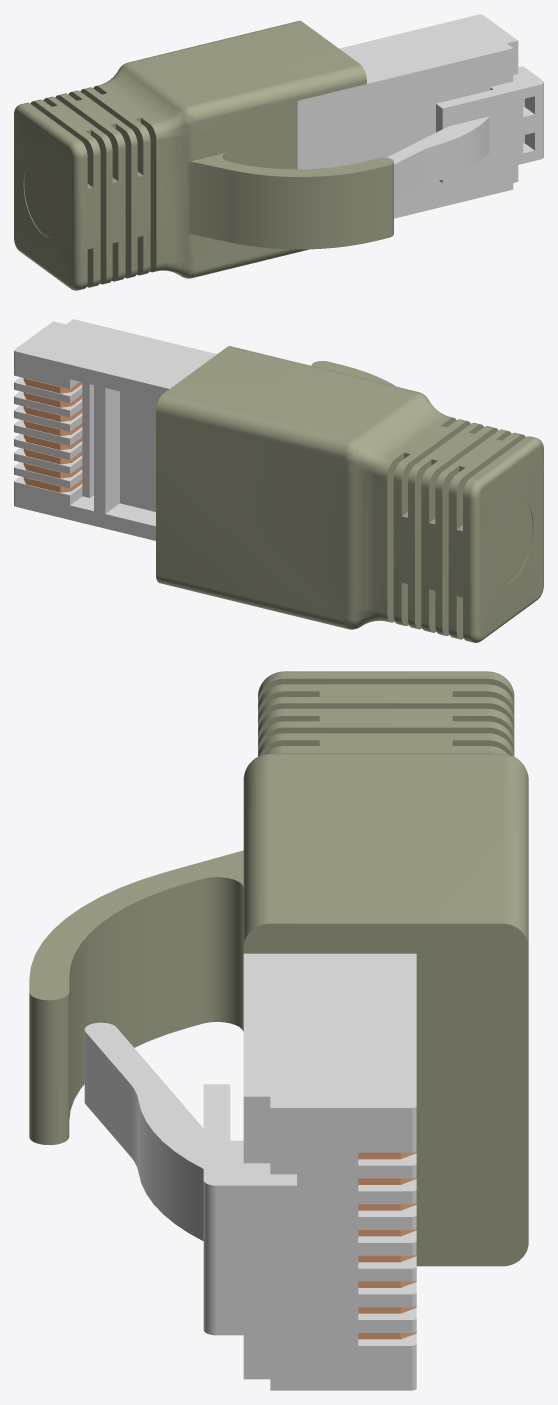
File: ethernet.fbx
The picture shows the model from 3 angles, top to bottom: view 1: azimuth 30°, elevation 25°; view 2: azimuth 150°, elevation 25°; view 3: azimuth 270°, elevation 25°; orthographic projection. The views are drawn at different scales.
Visible parts, largest first — view 1: Extruded.010, Extruded.012, Extruded.009; view 2: Extruded.010, Extruded.012, Extruded.009; view 3: Extruded.010, Extruded.012.
Part boxes in pixels (x1,y1,x2,y2): Extruded.010: [14, 20, 393, 290]; Extruded.012: [297, 14, 543, 218]; Extruded.009: [24, 159, 63, 237]; Extruded.010: [156, 346, 543, 642]; Extruded.012: [14, 319, 216, 540]; Extruded.009: [489, 499, 532, 584]; Extruded.010: [29, 671, 528, 1266]; Extruded.012: [84, 953, 416, 1390].
Size of the model in its own units: 3.96 by 1.42 by 1.87.
